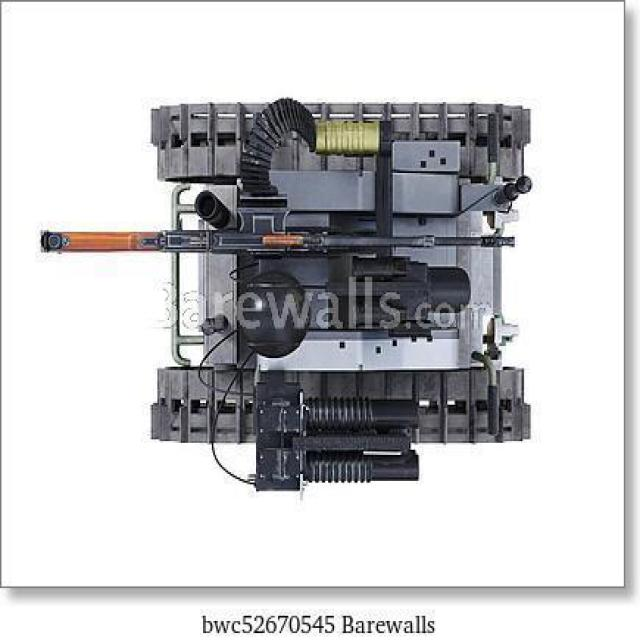Tanks: (19, 91, 589, 492)
